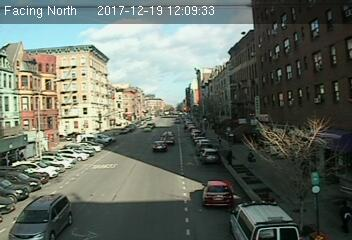car: (10, 192, 72, 240), (202, 179, 236, 208), (200, 149, 219, 163), (152, 140, 168, 152)
